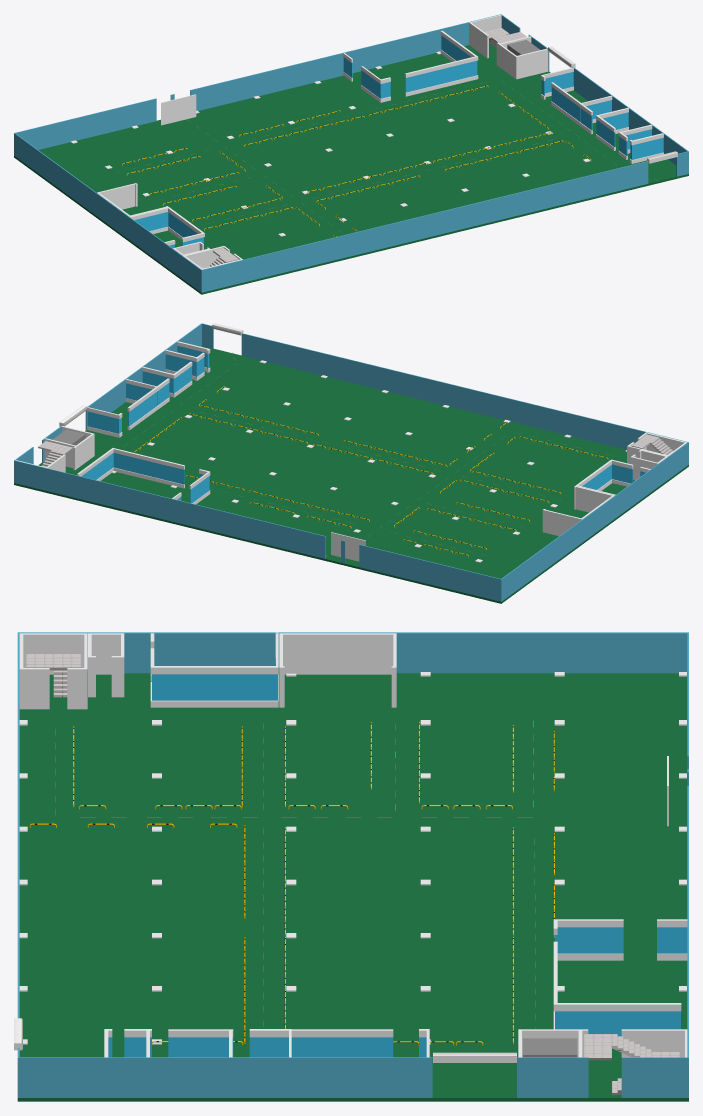
3 views of the same model, one above another, from view 1: azimuth 30°, elevation 25°; view 2: azimuth 150°, elevation 25°; view 3: azimuth 270°, elevation 25° (orthographic). The views are drawn at different scales.
Visible parts, largest first — view 1: dimian001, qiang001, Object019, Object020, Object018, Object024, Object025, Object023, Object021; view 2: dimian001, qiang001, Object019, Object020, Object023, Object024, Object018, Object025, Object021, Object022, reobj_loutiC_011; view 3: dimian001, qiang001, Object020, Object019, Object024, Object023, Object021, Object018, Object022, reobj_loutiC_011, reobj_loutiC_012, Box085 (+1 smaller).
Part boxes in pixels (x1,y1,x2,y2): dimian001: (14, 43, 688, 294); qiang001: (14, 14, 688, 292); Object019: (541, 67, 663, 163); Object020: (343, 30, 478, 102); Object018: (469, 15, 548, 79); Object024: (129, 207, 204, 248); Object025: (161, 94, 196, 125); Object023: (97, 183, 168, 216); Object021: (183, 246, 242, 269); dimian001: (14, 346, 688, 603); qiang001: (14, 323, 688, 601); Object019: (87, 341, 210, 437); Object020: (77, 448, 210, 504); Object023: (542, 486, 614, 535); Object024: (575, 459, 650, 495); Object018: (15, 426, 94, 472); Object025: (331, 532, 365, 561); Object021: (627, 432, 686, 463); Object022: (630, 449, 667, 480); reobj_loutiC_011: (38, 441, 73, 467); dimian001: (17, 673, 688, 1101); qiang001: (17, 632, 688, 1097); Object020: (553, 919, 687, 1036); Object019: (104, 1029, 429, 1057); Object024: (150, 632, 278, 707); Object023: (279, 633, 396, 707); Object021: (19, 633, 87, 709); Object018: (518, 1029, 687, 1057); Object022: (88, 633, 124, 697); reobj_loutiC_011: (584, 1034, 679, 1095); reobj_loutiC_012: (26, 654, 80, 697); Box085: (523, 1038, 577, 1057).
Bounding box in the file's own units: 2375 × 124 × 1584.
Materials: 10 (8 with a texture image).
